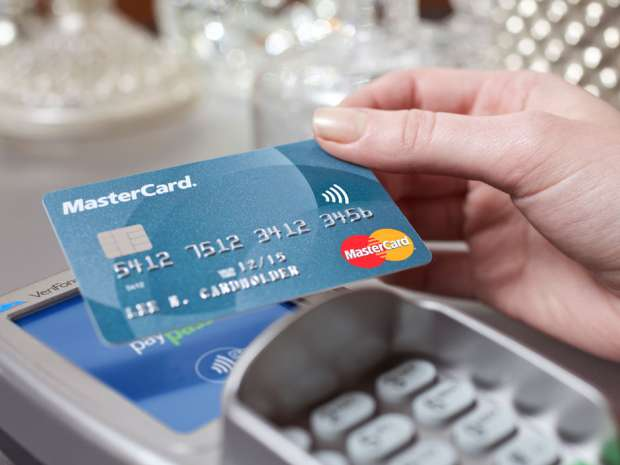tarjeta: (41, 135, 435, 349)
